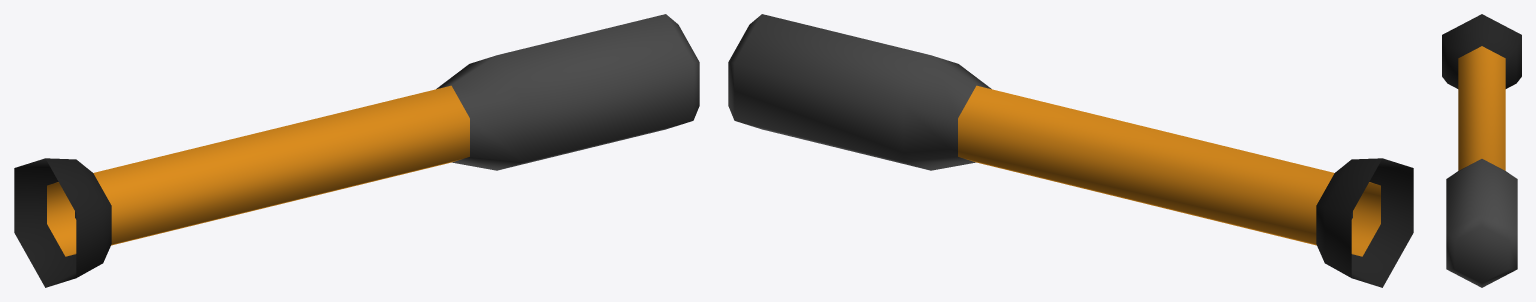
Rendered from VC_SignalLightsControl_01.fbx.
The picture shows the model from 3 angles, left to right: view 1: azimuth 30°, elevation 25°; view 2: azimuth 150°, elevation 25°; view 3: azimuth 270°, elevation 25°; orthographic projection. The views are drawn at different scales.
Parts seen in each view (by area): view 1: VC_SignalLightsControl_low; view 2: VC_SignalLightsControl_low; view 3: VC_SignalLightsControl_low.
Part boxes in pixels (x1,y1,x2,y2): VC_SignalLightsControl_low: (14, 14, 699, 287); VC_SignalLightsControl_low: (728, 14, 1413, 287); VC_SignalLightsControl_low: (1442, 14, 1521, 287).
Bounding box in the file's own units: 0.1394 × 0.0273 × 0.0236.
